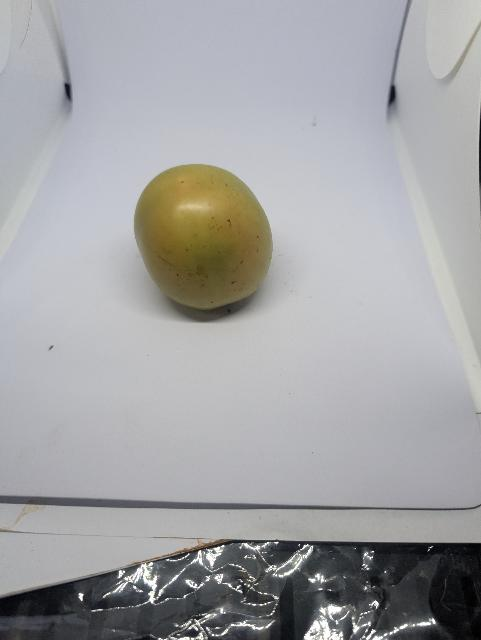breaker: (130, 162, 279, 315)
